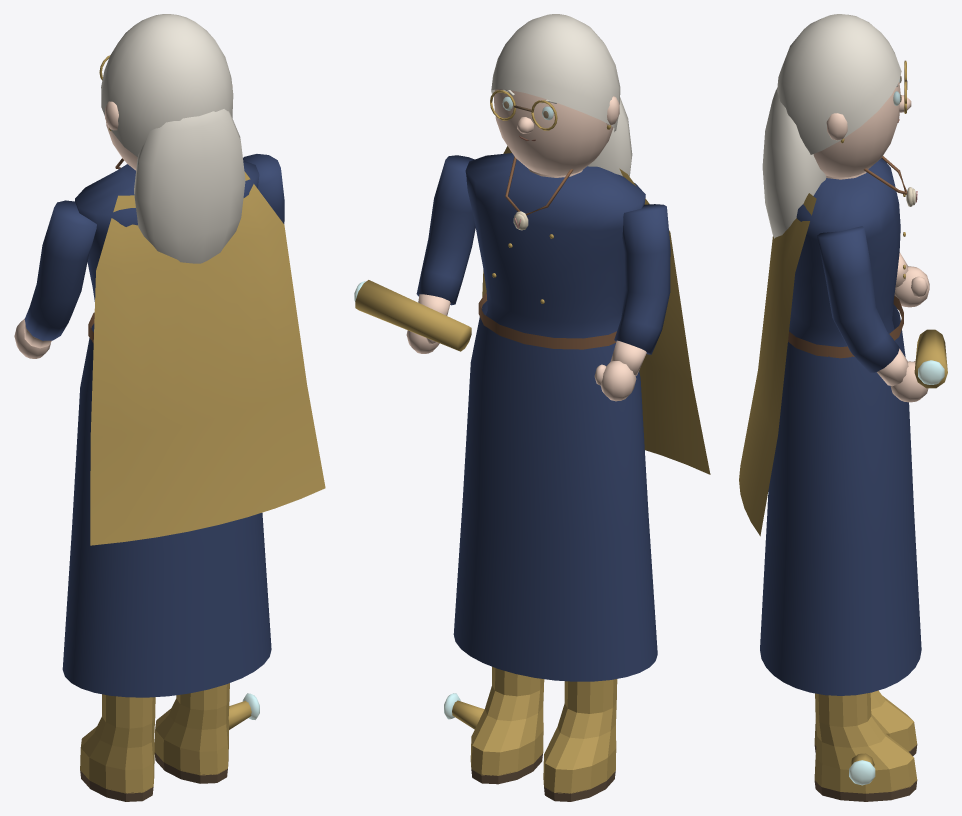
Rendered from SM_NPC_AURORA.glb.
The picture shows the model from 3 angles, left to right: view 1: azimuth 30°, elevation 25°; view 2: azimuth 150°, elevation 25°; view 3: azimuth 270°, elevation 25°; orthographic projection. The views are drawn at different scales.
Parts seen in each view (by area): view 1: SM_NPC_AURORA_BODY, SM_NPC_AURORA_HAIR, SM_NPC_AURORA_ARM_L, SM_NPC_AURORA_LEG_L, SM_NPC_AURORA_LEG_R, SM_NPC_AURORA_ARM_R, SM_NPC_AURORA_HEAD; view 2: SM_NPC_AURORA_BODY, SM_NPC_AURORA_ARM_R, SM_NPC_AURORA_HAIR, SM_NPC_AURORA_ARM_L, SM_NPC_AURORA_LEG_L, SM_NPC_AURORA_HEAD, SM_NPC_AURORA_LEG_R; view 3: SM_NPC_AURORA_BODY, SM_NPC_AURORA_HAIR, SM_NPC_AURORA_ARM_R, SM_NPC_AURORA_LEG_R, SM_NPC_AURORA_HEAD, SM_NPC_AURORA_LEG_L, SM_NPC_AURORA_ARM_L.
Boxes of the visible parts, <box> form: SM_NPC_AURORA_BODY: <box>62,158,325,697</box>; SM_NPC_AURORA_HAIR: <box>101,14,245,263</box>; SM_NPC_AURORA_ARM_L: <box>14,200,96,358</box>; SM_NPC_AURORA_LEG_L: <box>80,694,155,801</box>; SM_NPC_AURORA_LEG_R: <box>154,683,229,783</box>; SM_NPC_AURORA_ARM_R: <box>228,154,284,729</box>; SM_NPC_AURORA_HEAD: <box>99,55,232,170</box>; SM_NPC_AURORA_BODY: <box>453,146,710,681</box>; SM_NPC_AURORA_ARM_R: <box>354,155,484,729</box>; SM_NPC_AURORA_HAIR: <box>491,14,632,176</box>; SM_NPC_AURORA_ARM_L: <box>594,204,670,401</box>; SM_NPC_AURORA_LEG_L: <box>543,679,617,801</box>; SM_NPC_AURORA_HEAD: <box>490,89,619,175</box>; SM_NPC_AURORA_LEG_R: <box>470,666,544,784</box>; SM_NPC_AURORA_BODY: <box>739,156,921,695</box>; SM_NPC_AURORA_HAIR: <box>762,14,901,238</box>; SM_NPC_AURORA_ARM_R: <box>817,226,947,785</box>; SM_NPC_AURORA_LEG_R: <box>814,692,917,801</box>; SM_NPC_AURORA_HEAD: <box>813,60,911,177</box>; SM_NPC_AURORA_LEG_L: <box>814,690,917,755</box>; SM_NPC_AURORA_ARM_L: <box>894,252,929,307</box>.
Size of the model in its own units: 0.6901 by 1.81 by 0.4561.
